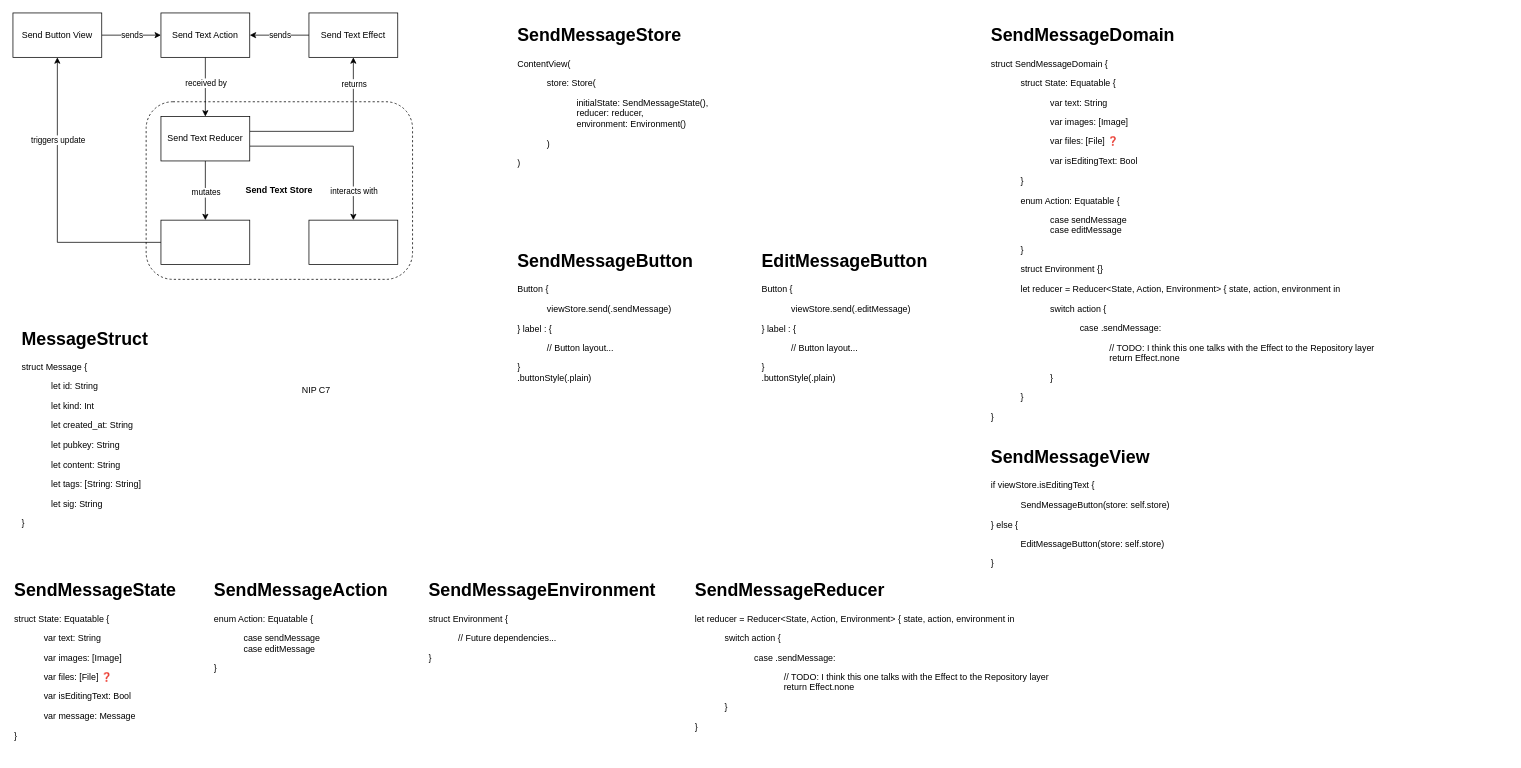
The diagram is 1521 pixels wide and 768 high, and some of its shapes have lost their labels. The box of each missing label's shape, as (x1, y1, x2, y2) in pixels:
Send Text Environment: (308, 219, 398, 265)
Send Text State: (160, 219, 250, 265)
